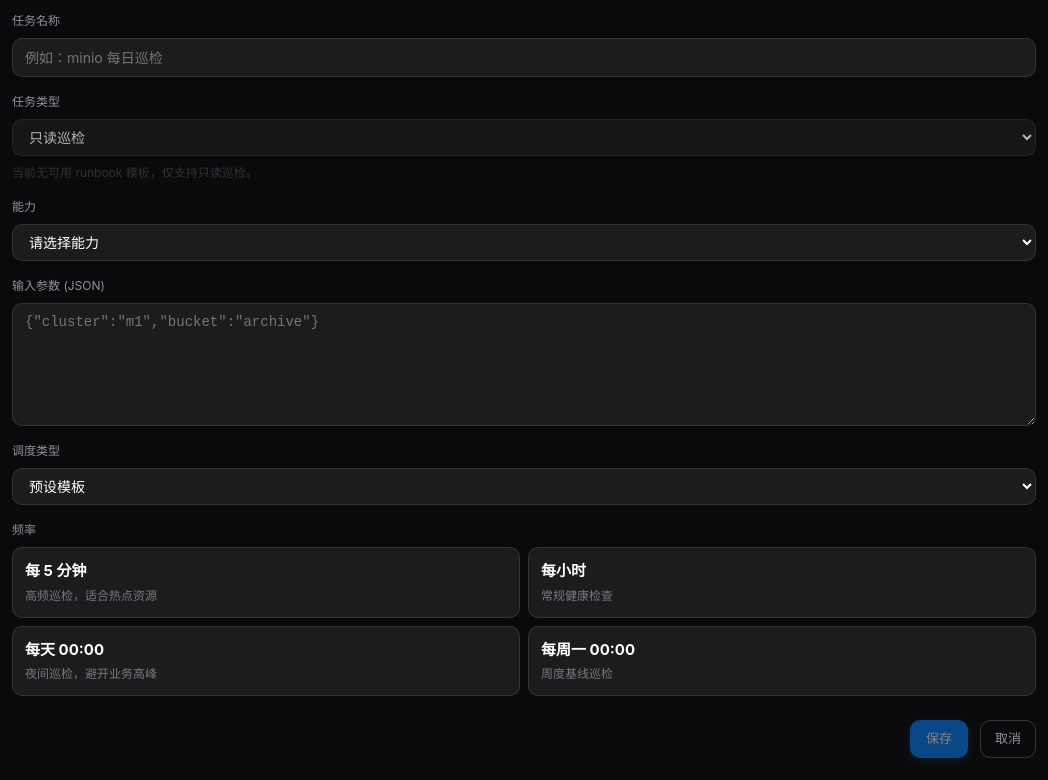
Test: ScheduledTaskForm › schedule_kind 切换：preset → cron，子组件切换
This screenshot has width=1048, height=780.
Expected: the element with test id "schedule-preset-picker" is shown, [12,547,1036,696]
Select "Cron 表达式" in the dropdown with test id "scheduled-task-schedule-kind": (524, 486) [12,468,1036,505]
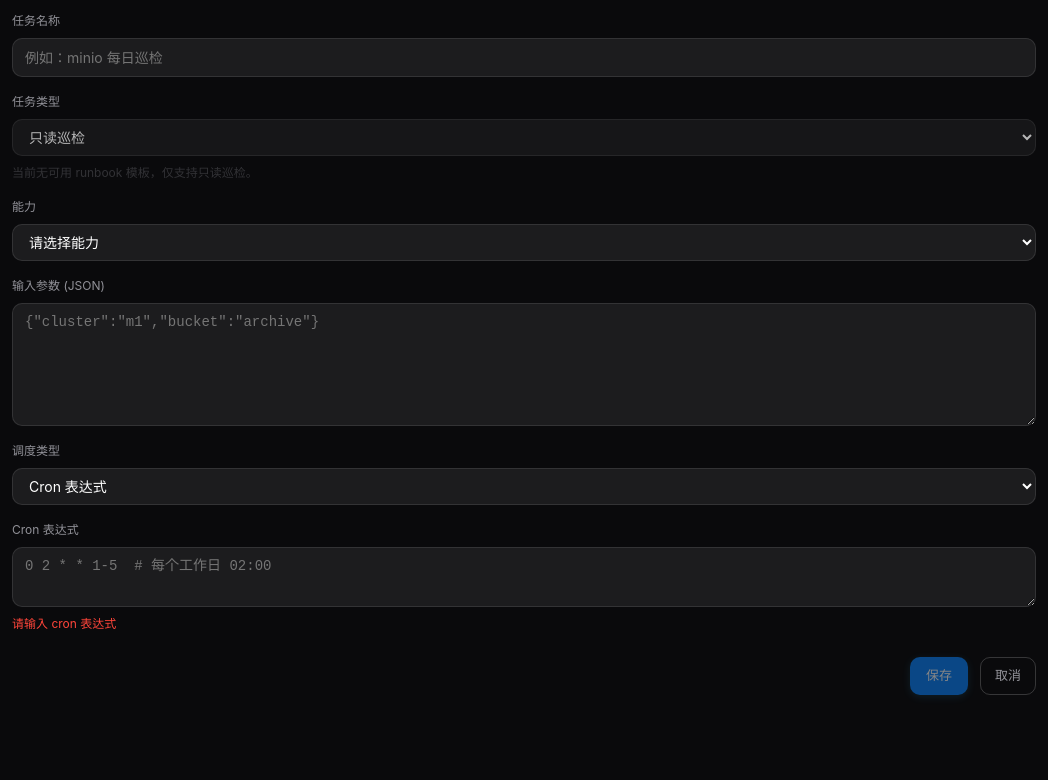
Result: the element with test id "schedule-cron-input-wrapper" is shown at [12,547,1036,633]
